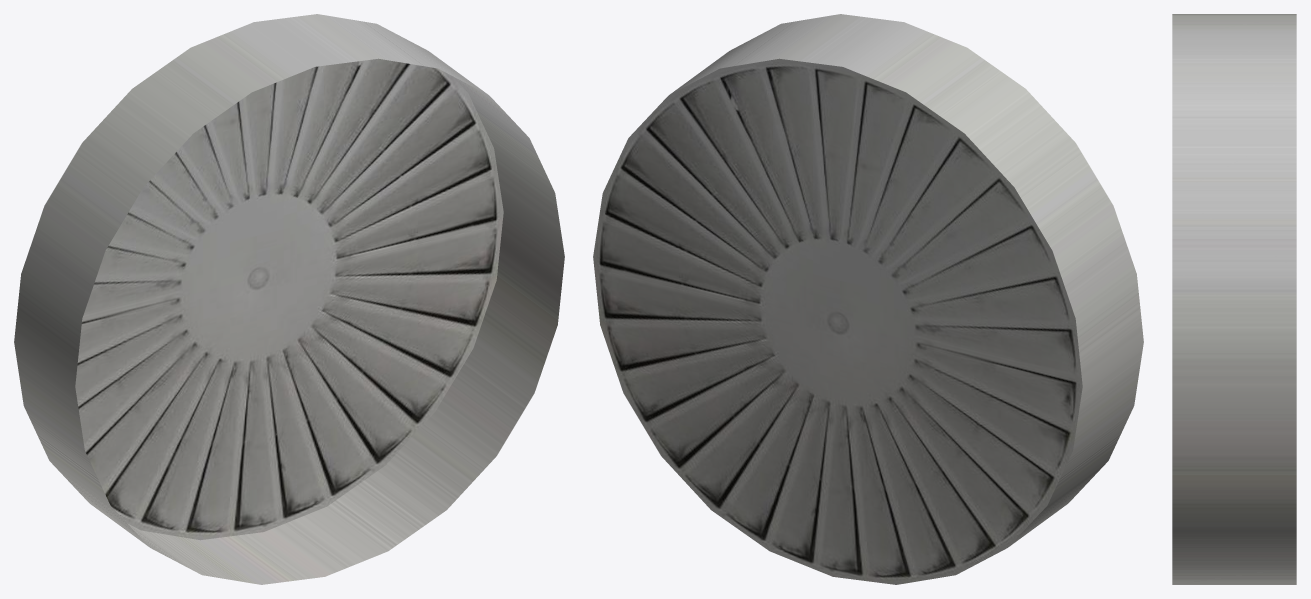
The model's file is ventilation fan.fbx.
The picture shows the model from 3 angles, left to right: view 1: azimuth 30°, elevation 25°; view 2: azimuth 150°, elevation 25°; view 3: azimuth 270°, elevation 25°; orthographic projection.
Parts seen in each view (by area): view 1: item010; view 2: item010; view 3: item010.
Boxes of the visible parts, box(x1,y1,x2,y2) form: item010: box(14, 14, 564, 584); item010: box(593, 14, 1143, 584); item010: box(1172, 14, 1296, 584).
Size of the model in its own units: 37.11 by 37.11 by 8.03.
